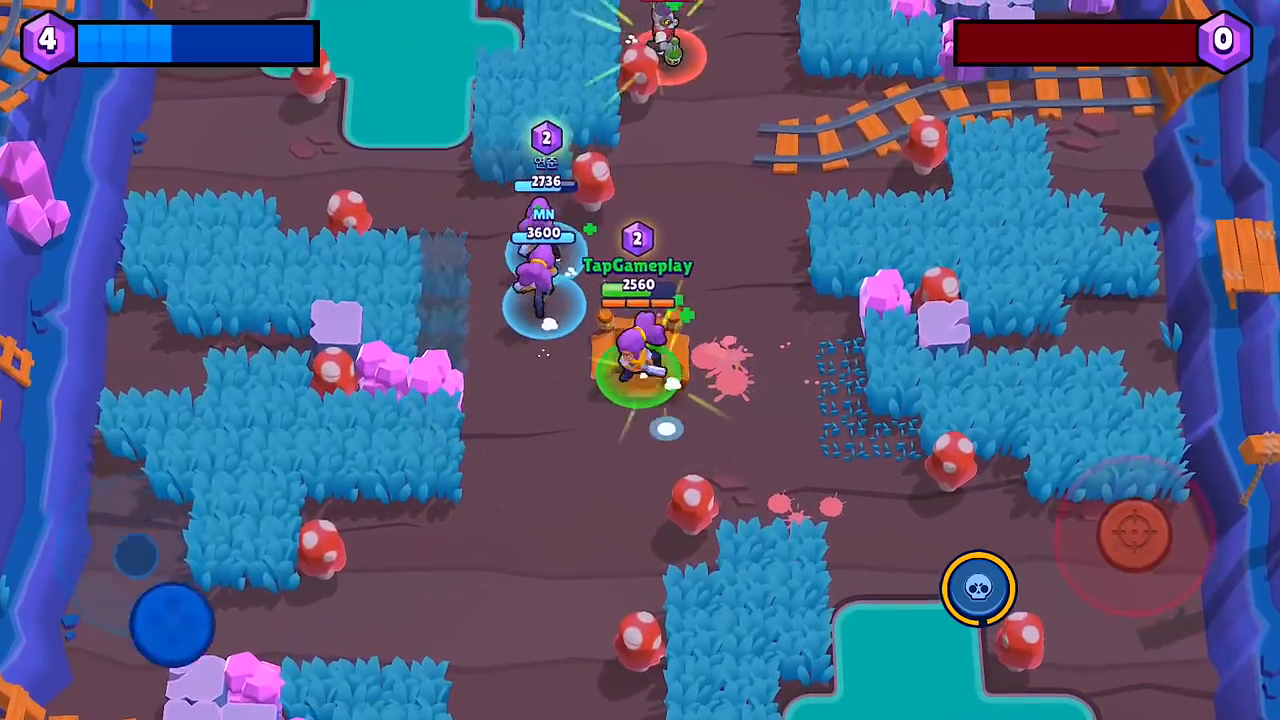move_stick: (138, 585, 216, 652)
red: (621, 1, 718, 85)
